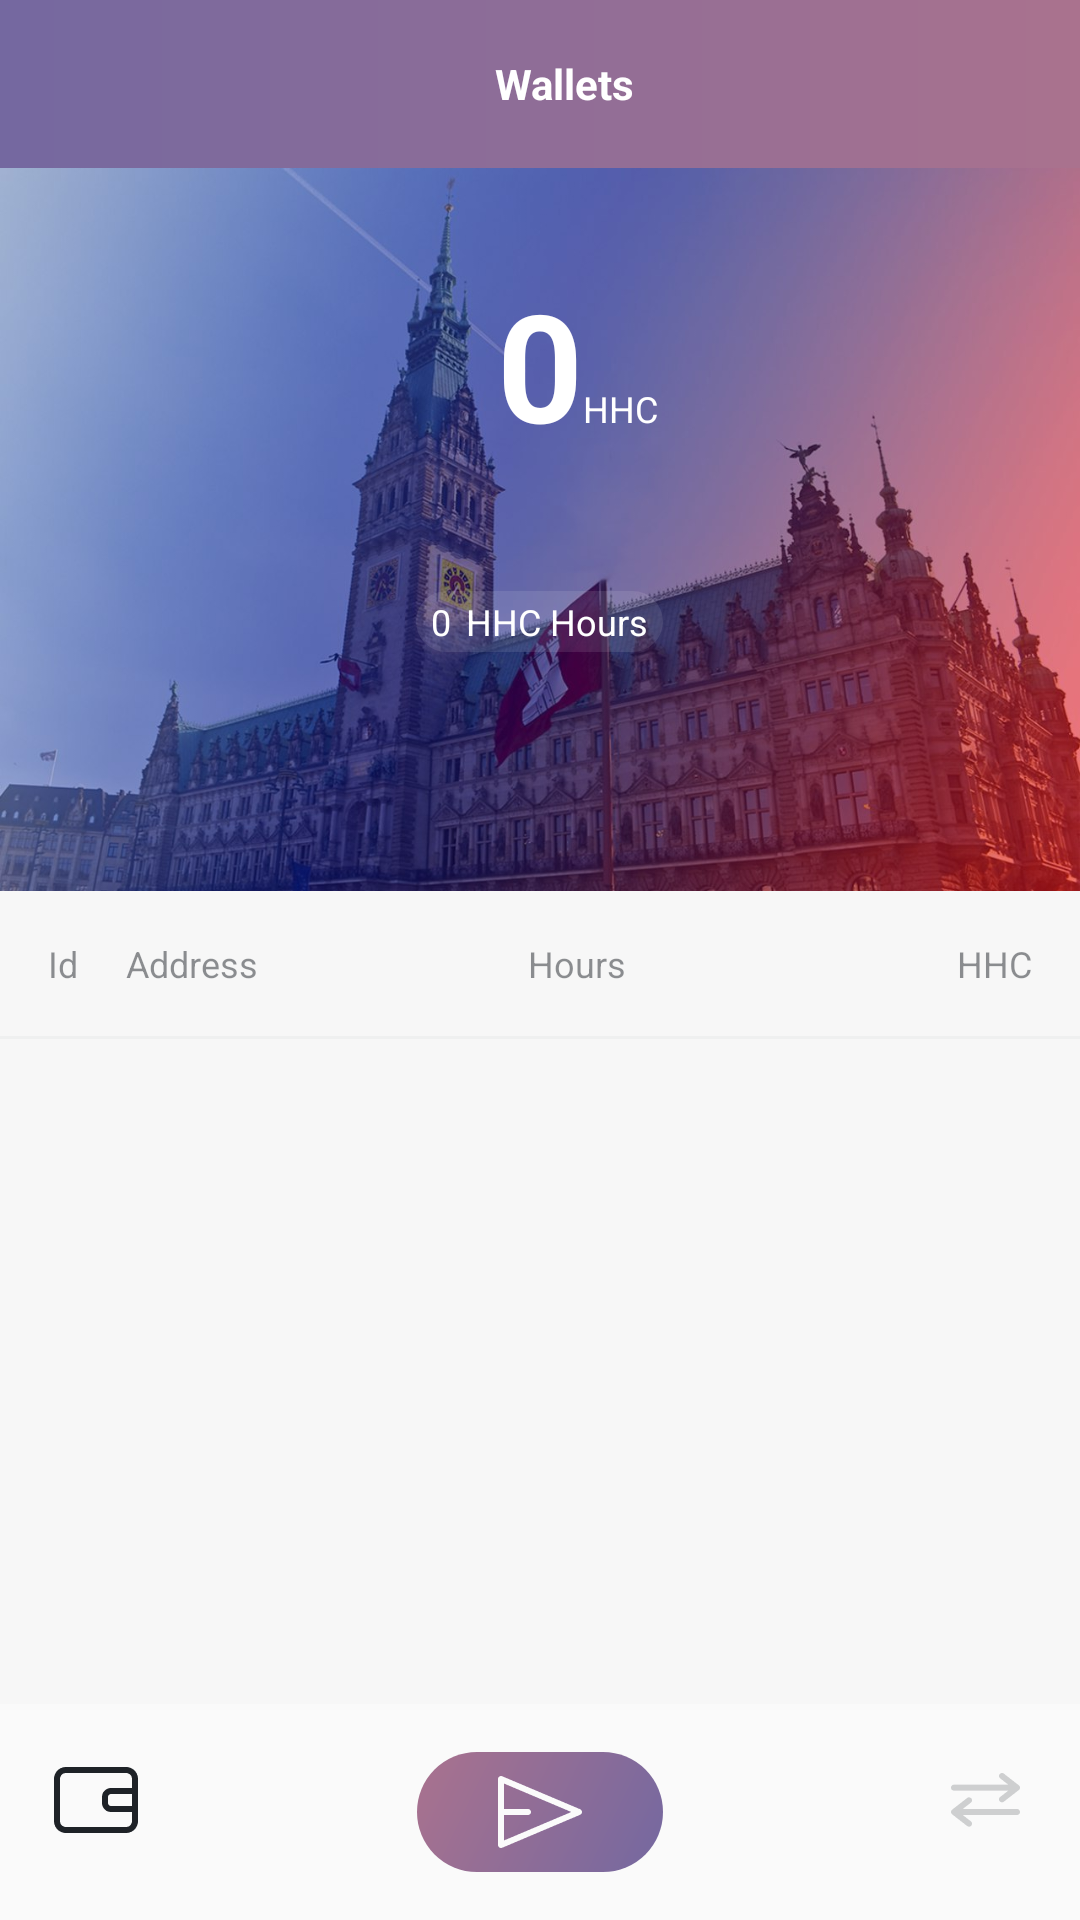

Named icons in this screenshot (1080 x 1920) and their centers, [x,y]:
send: [540,1812]
transactions: [985,1800]
wallet: [96,1800]
